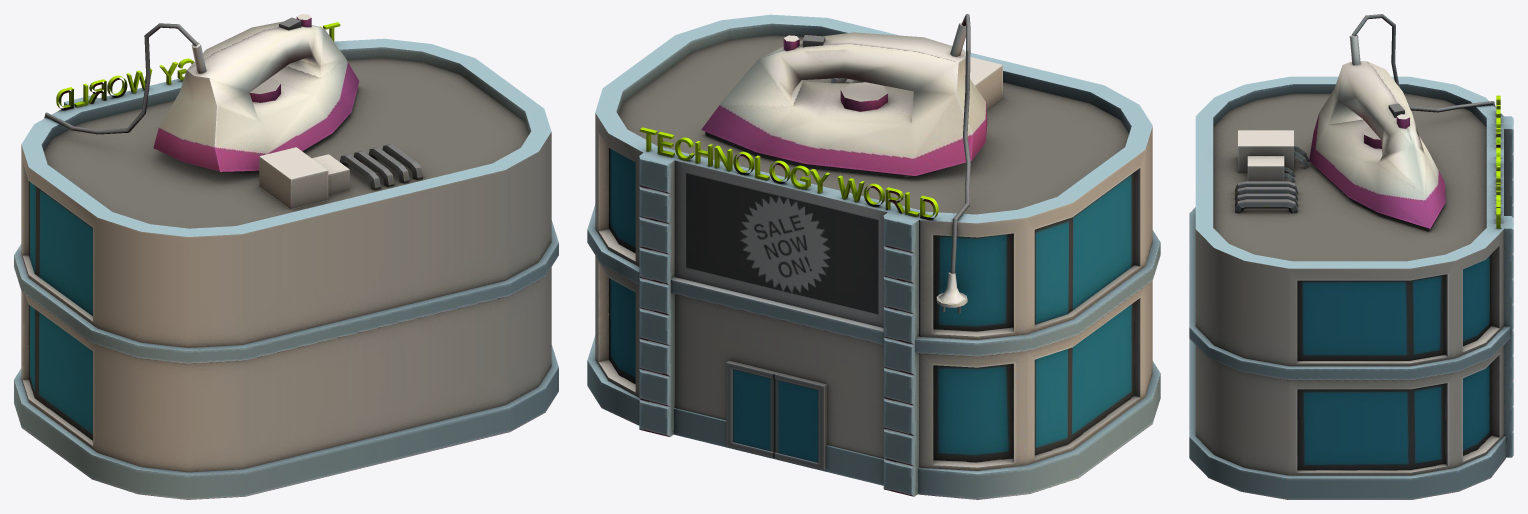
Rendered from TechnologyWorld.glb.
3 renders of one model, left to right at view 1: azimuth 30°, elevation 25°; view 2: azimuth 150°, elevation 25°; view 3: azimuth 270°, elevation 25°, orthographic. The views are drawn at different scales.
Visible parts, largest first — view 1: Object007; view 2: Object007; view 3: Object007.
Boxes of the visible parts, x1,y1,x2,y2 form: Object007: (14, 14, 558, 499); Object007: (587, 14, 1160, 499); Object007: (1189, 14, 1513, 499).
Size of the model in its own units: 6.54 by 5.32 by 4.54.
Materials: 1 (1 with a texture image).
